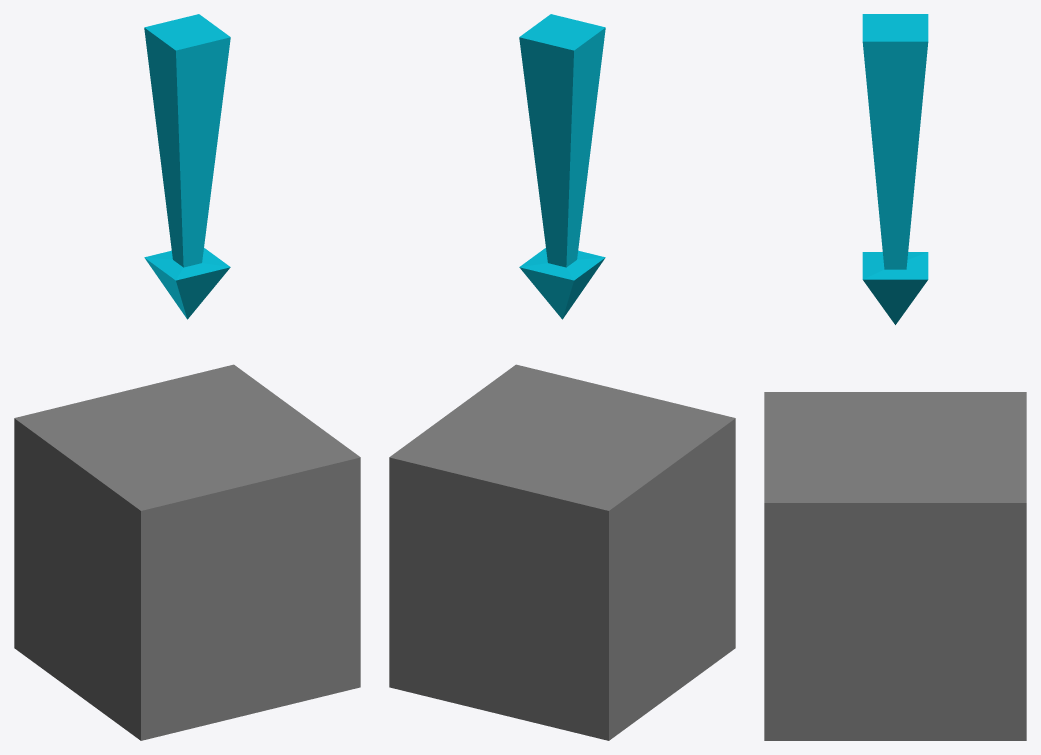
The model's file is basictemplate.glb.
3 renders of one model, left to right at view 1: azimuth 30°, elevation 25°; view 2: azimuth 150°, elevation 25°; view 3: azimuth 270°, elevation 25°, orthographic. The views are drawn at different scales.
Parts seen in each view (by area): view 1: exemple Cube, arrow; view 2: exemple Cube, arrow; view 3: exemple Cube, arrow.
Part boxes in pixels (box(x1,y1,x2,y2)): exemple Cube: box(14, 364, 360, 740); arrow: box(144, 14, 230, 319); exemple Cube: box(389, 364, 735, 740); arrow: box(519, 14, 605, 319); exemple Cube: box(764, 392, 1026, 740); arrow: box(862, 14, 928, 324).
Size of what is drawn, in the model's own units: 20 by 55.26 by 20.
